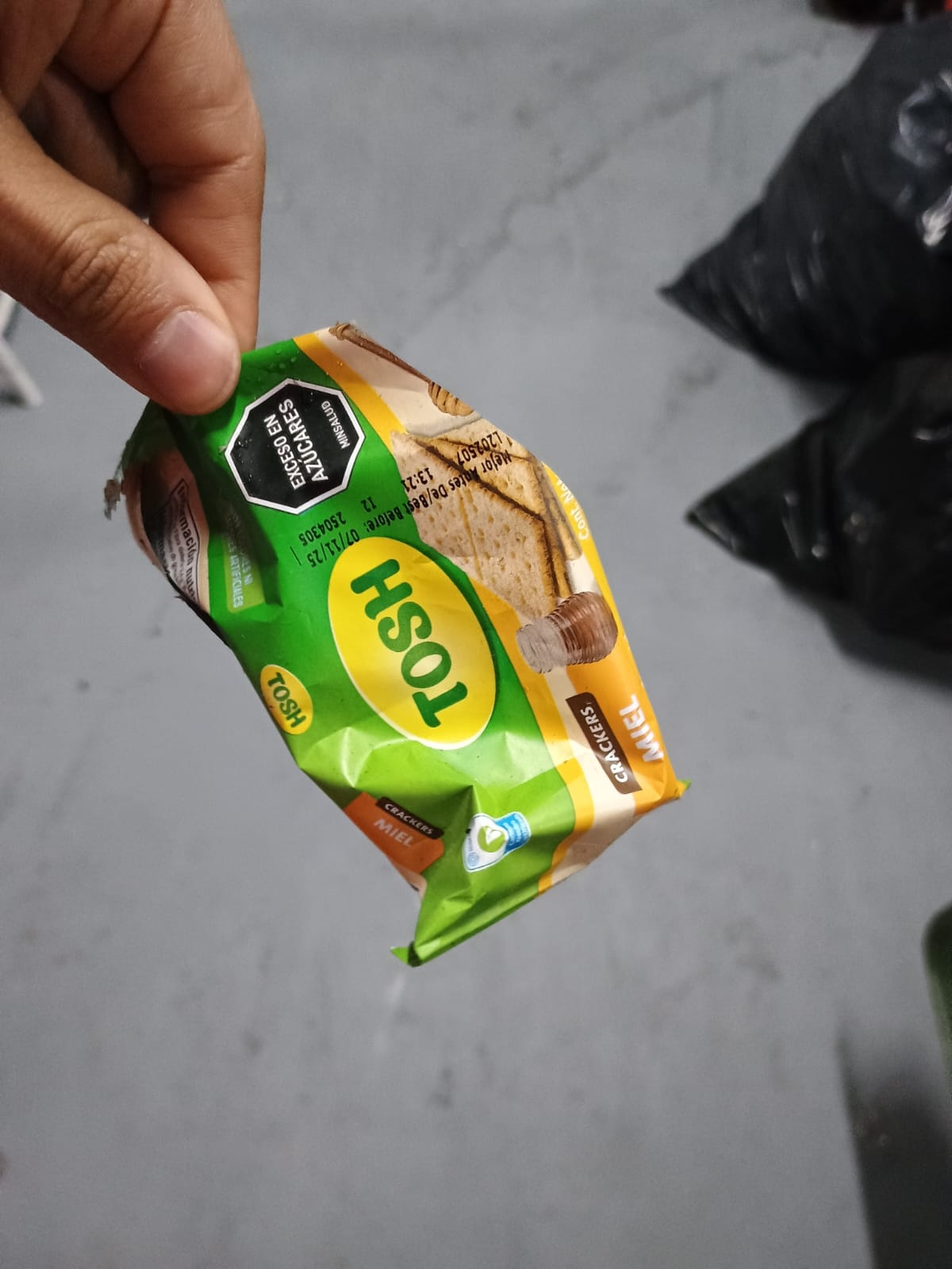Ordinario: (103, 326, 689, 966)
